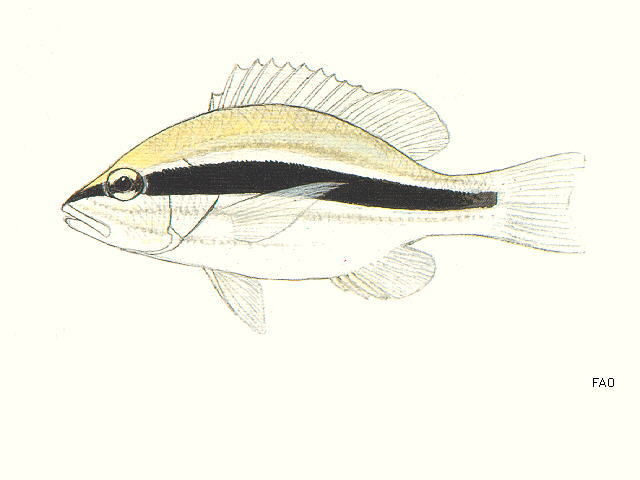fish: (61, 58, 587, 336)
